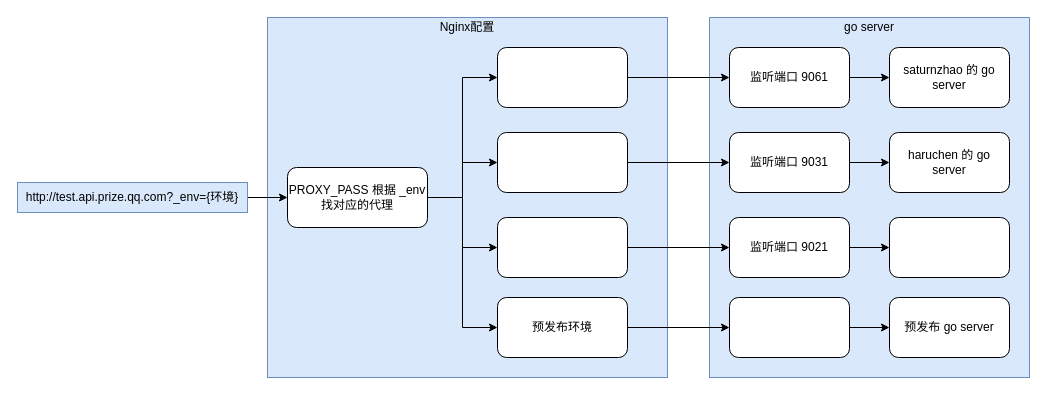
This 1047x395 diagram has some shape labels left out. The shapes that lost their labels are listed below. From the top down, each one's centre as x and y in pixels, then its label:
At point 562,77: "saturnzhao 的 dev 环境".
At point 562,162: "haruchen 的 dev 环境".
At point 562,247: "测试环境".
At point 949,247: "测试 go server".
At point 789,327: "监听端口 9011".
